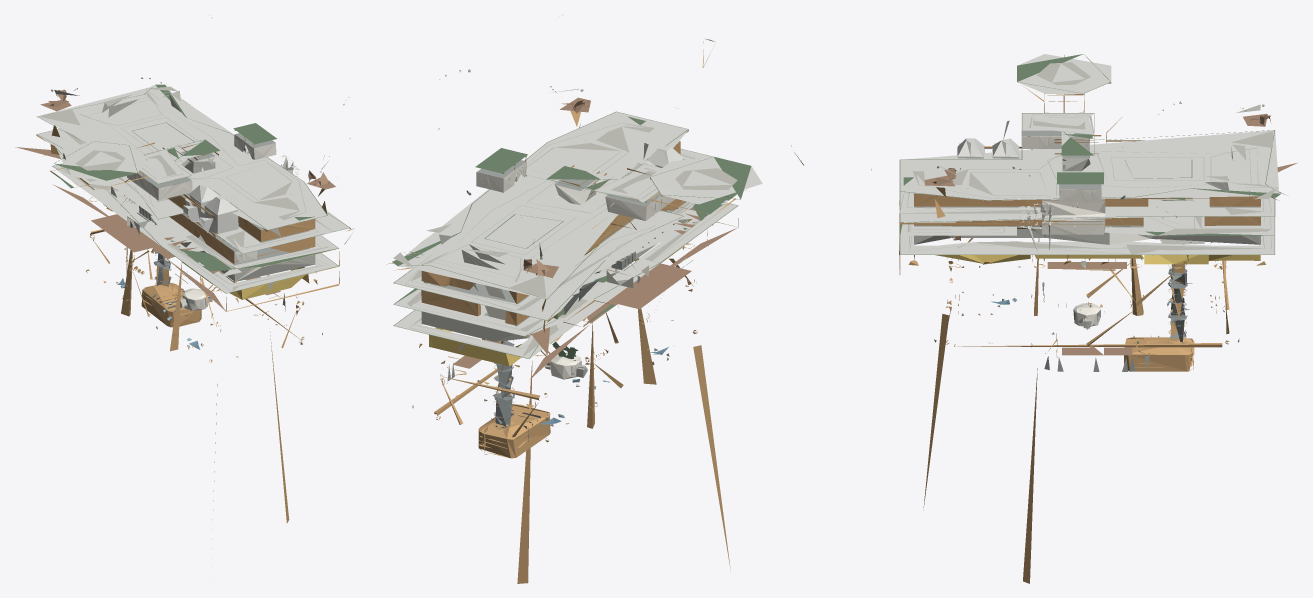
The model's file is oilrig_1.glb.
The picture shows the model from 3 angles, left to right: view 1: azimuth 30°, elevation 25°; view 2: azimuth 150°, elevation 25°; view 3: azimuth 270°, elevation 25°; orthographic projection. The views are drawn at different scales.
Parts seen in each view (by area): view 1: scientist_cover_a_LOD0, oilrig_stairs_small_LOD0, ground_cloth_a_LOD0, creeping_plant_a_LOD0, floating_planks_LOD0, liquid_gas_tank_600_LOD0, industrial_doors_a_e_static, level2_LOD0, potted_plant_a_LOD0; view 2: scientist_cover_a_LOD0, oilrig_stairs_small_LOD0, ground_cloth_a_LOD0, creeping_plant_a_LOD0, floating_planks_LOD0, liquid_gas_tank_600_LOD0, industrial_doors_a_e_static, level2_LOD0, potted_plant_a_LOD0; view 3: scientist_cover_a_LOD0, oilrig_stairs_small_LOD0, ground_cloth_a_LOD0, creeping_plant_a_LOD0, liquid_gas_tank_600_LOD0, level2_LOD0, floating_planks_LOD0, industrial_doors_a_e_static, potted_plant_a_LOD0.
Part boxes in pixels (left/top/right/bottom): scientist_cover_a_LOD0: left=37, top=85, right=349, bottom=293; oilrig_stairs_small_LOD0: left=36, top=100, right=354, bottom=548; ground_cloth_a_LOD0: left=40, top=77, right=350, bottom=349; creeping_plant_a_LOD0: left=37, top=84, right=350, bottom=334; floating_planks_LOD0: left=15, top=88, right=350, bottom=325; liquid_gas_tank_600_LOD0: left=127, top=134, right=276, bottom=310; industrial_doors_a_e_static: left=127, top=133, right=309, bottom=311; level2_LOD0: left=103, top=204, right=309, bottom=299; potted_plant_a_LOD0: left=130, top=148, right=245, bottom=308; scientist_cover_a_LOD0: left=394, top=112, right=762, bottom=358; oilrig_stairs_small_LOD0: left=386, top=39, right=738, bottom=583; ground_cloth_a_LOD0: left=393, top=69, right=737, bottom=426; creeping_plant_a_LOD0: left=392, top=111, right=751, bottom=407; floating_planks_LOD0: left=438, top=86, right=736, bottom=407; liquid_gas_tank_600_LOD0: left=476, top=162, right=675, bottom=379; industrial_doors_a_e_static: left=428, top=141, right=686, bottom=383; level2_LOD0: left=429, top=219, right=692, bottom=366; potted_plant_a_LOD0: left=491, top=176, right=640, bottom=441; scientist_cover_a_LOD0: left=900, top=54, right=1279, bottom=254; oilrig_stairs_small_LOD0: left=791, top=55, right=1286, bottom=583; ground_cloth_a_LOD0: left=899, top=62, right=1277, bottom=328; creeping_plant_a_LOD0: left=899, top=54, right=1280, bottom=344; liquid_gas_tank_600_LOD0: left=1021, top=131, right=1105, bottom=326; level2_LOD0: left=935, top=226, right=1260, bottom=264; floating_planks_LOD0: left=924, top=108, right=1297, bottom=355; industrial_doors_a_e_static: left=914, top=119, right=1260, bottom=371; potted_plant_a_LOD0: left=1133, top=264, right=1187, bottom=342.
Bounding box in the file's own units: 72.69 × 127 × 108.
